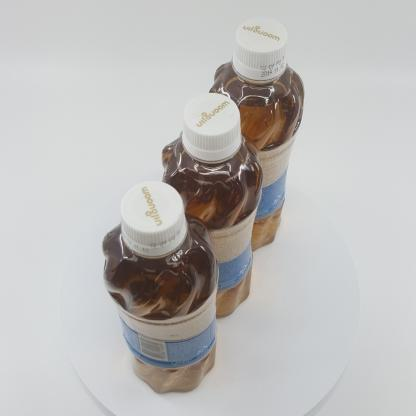------500ML: (102, 181, 219, 394), (205, 17, 305, 253), (161, 92, 263, 320)
